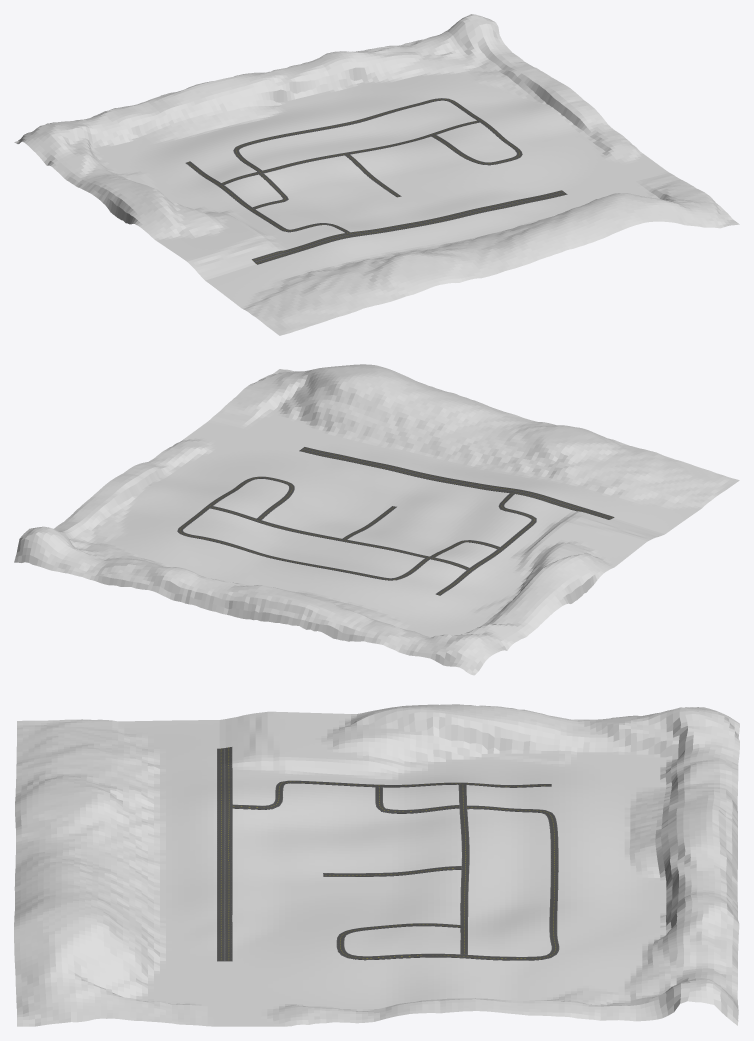
Rendered from Terrain.fbx.
3 renders of one model, top to bottom at view 1: azimuth 30°, elevation 25°; view 2: azimuth 150°, elevation 25°; view 3: azimuth 270°, elevation 25°, orthographic. The views are drawn at different scales.
Parts seen in each view (by area): view 1: Plane, Plane.001; view 2: Plane, Plane.001; view 3: Plane, Plane.001.
Boxes of the visible parts, x1,y1,x2,y2 form: Plane: (14,14,739,335); Plane.001: (185,98,567,264); Plane: (14,364,739,675); Plane.001: (177,447,614,595); Plane: (14,704,739,1026); Plane.001: (217,747,559,961).
Size of the model in its own units: 18943 by 1305 by 18839.
